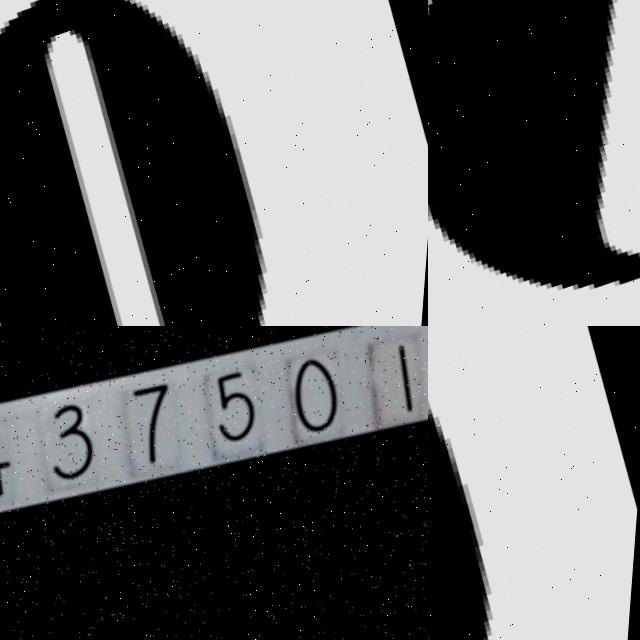0: (0, 0, 347, 326), (428, 326, 575, 640), (263, 337, 366, 449)
1: (348, 326, 428, 432)
3: (19, 383, 122, 496)
4: (0, 396, 43, 519)
5: (186, 353, 283, 457)
7: (100, 365, 206, 481)
C: (428, 0, 640, 291)
